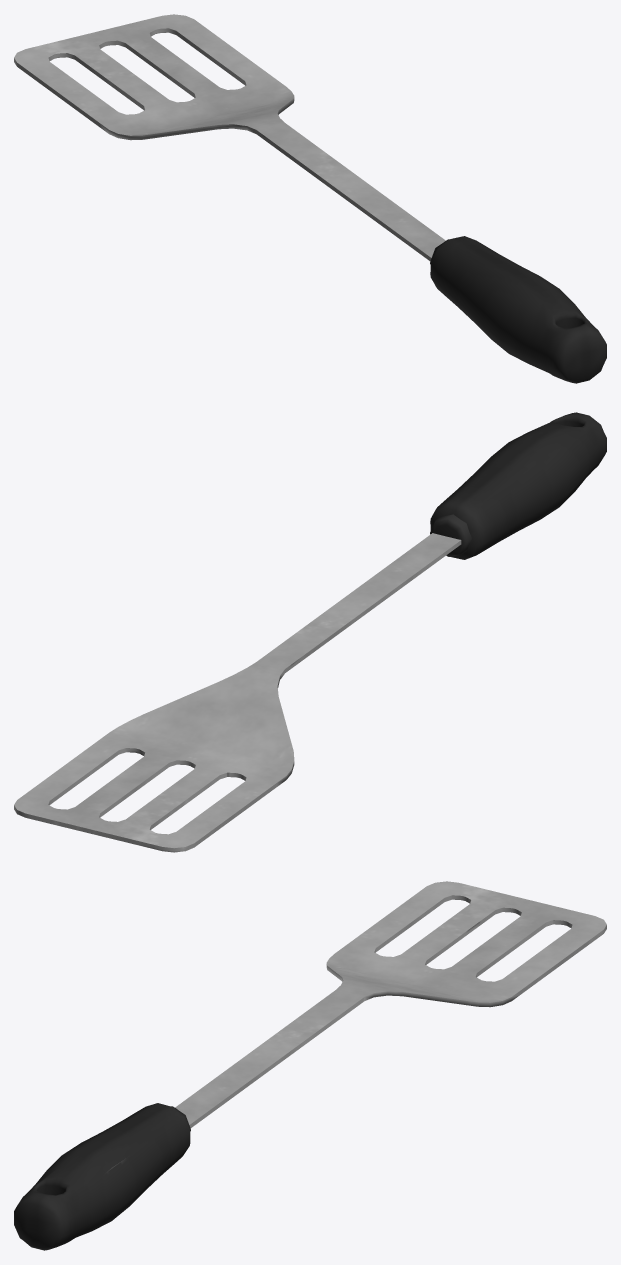
File: Spatula.fbx
3 views of the same model, one above another, from view 1: azimuth 30°, elevation 25°; view 2: azimuth 150°, elevation 25°; view 3: azimuth 330°, elevation 25° (orthographic).
Parts seen in each view (by area): view 1: Spatula; view 2: Spatula; view 3: Spatula.
Part boxes in pixels (bbox=[...]): Spatula: bbox=[14, 14, 606, 383]; Spatula: bbox=[14, 412, 606, 852]; Spatula: bbox=[14, 881, 606, 1250].
Size of the model in its own units: 32.81 by 2.72 by 6.82.
1 material, 1 textured.
